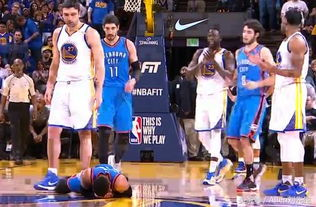10+: (1, 1, 314, 199)
down: (57, 159, 132, 202)
